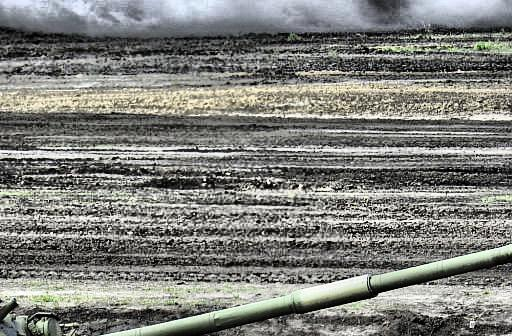tanks: (97, 248, 512, 336), (1, 298, 68, 336)
